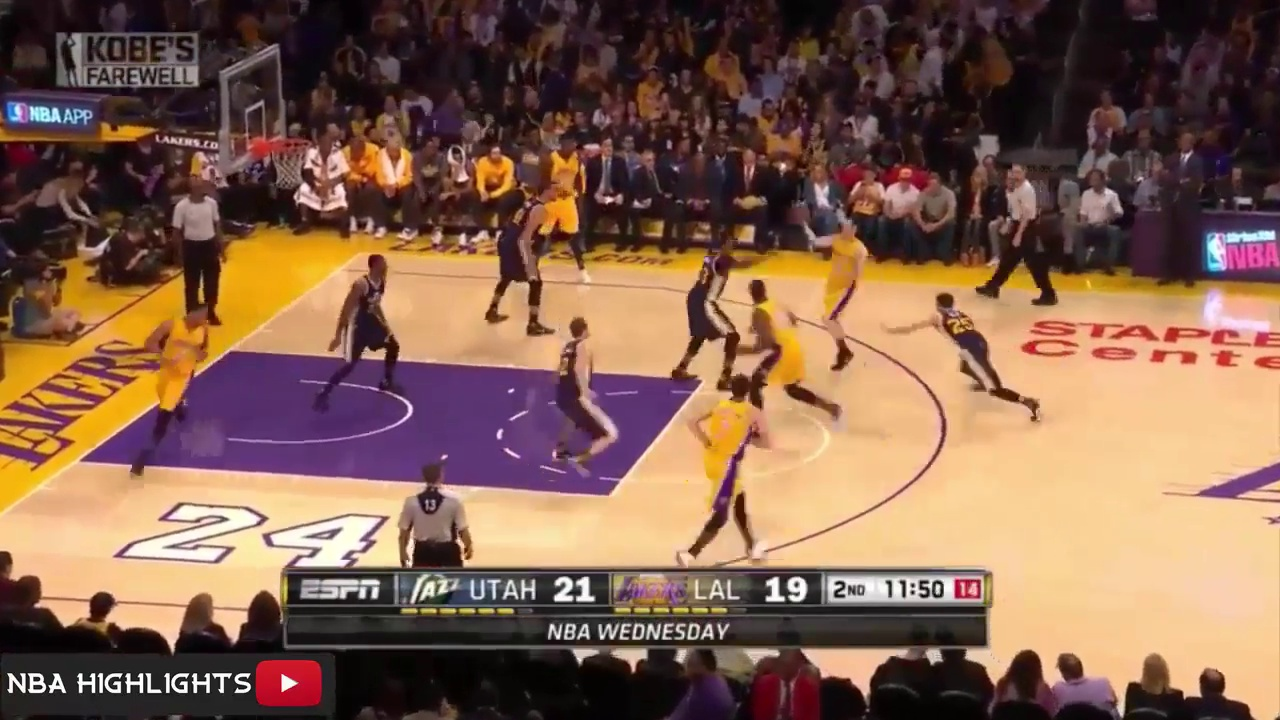jazz: (889, 291, 1049, 416), (322, 251, 402, 405), (680, 230, 756, 389), (491, 182, 557, 340), (558, 308, 619, 478)
lakers: (741, 277, 840, 430), (690, 375, 764, 563), (137, 306, 211, 473), (804, 212, 870, 365), (548, 140, 592, 283)
